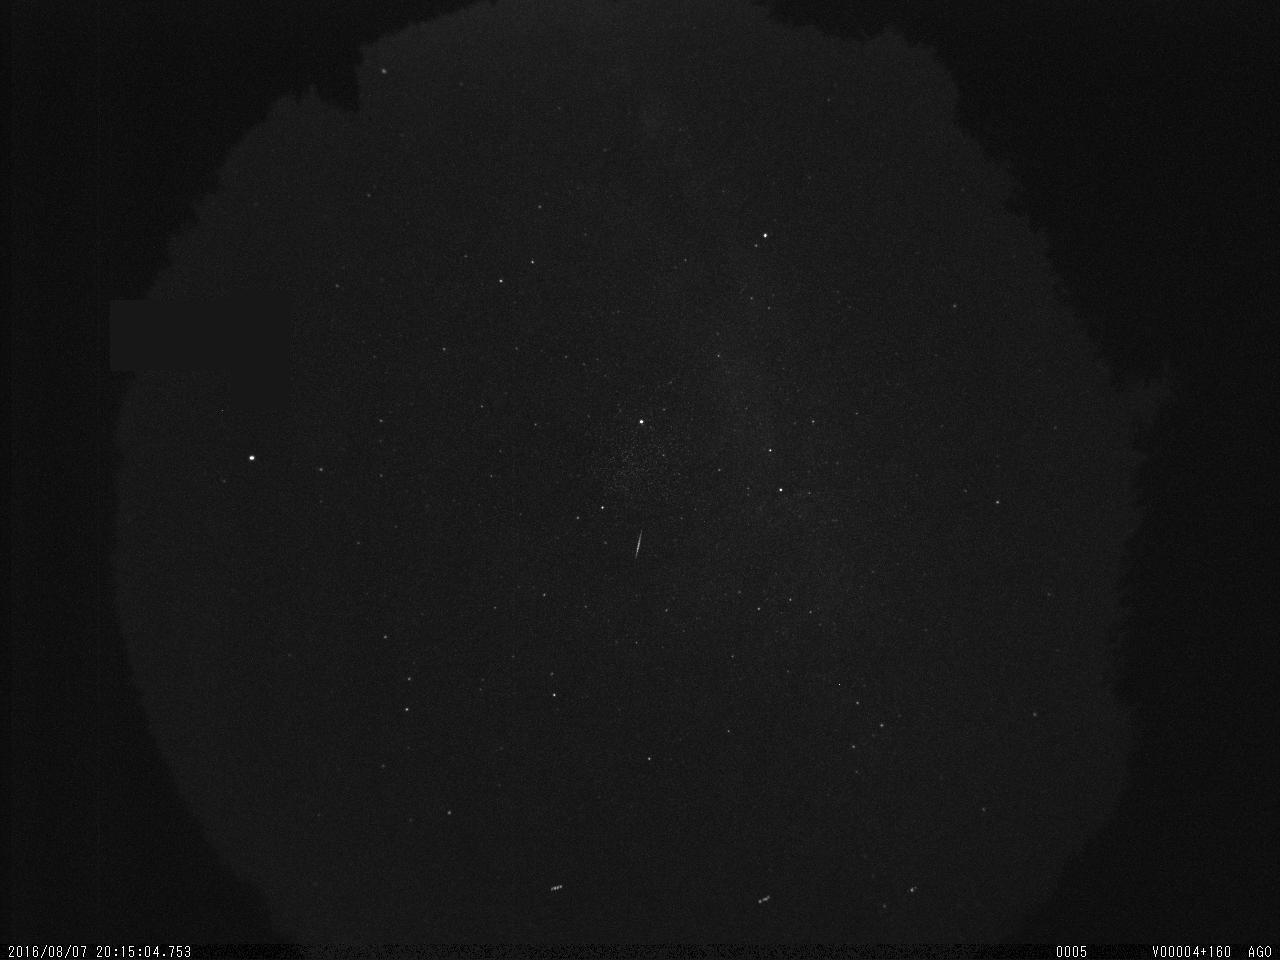meteor: (630, 525, 652, 563)
